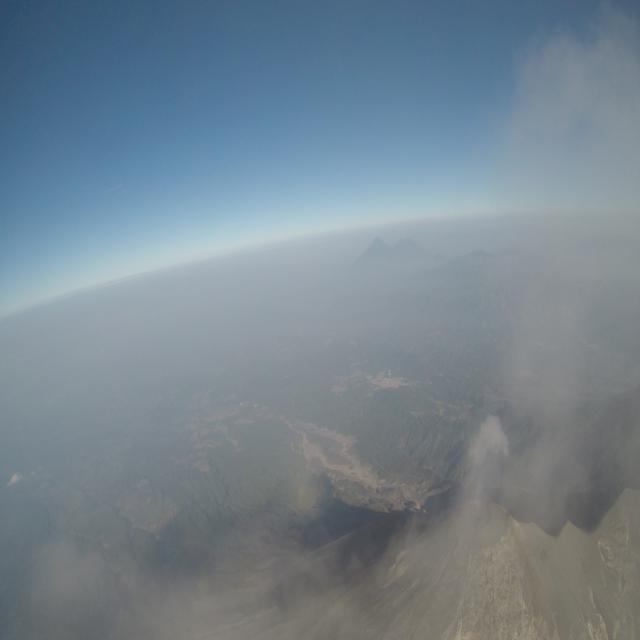Plume: (460, 413, 510, 503)
Summit: (445, 496, 515, 556)
